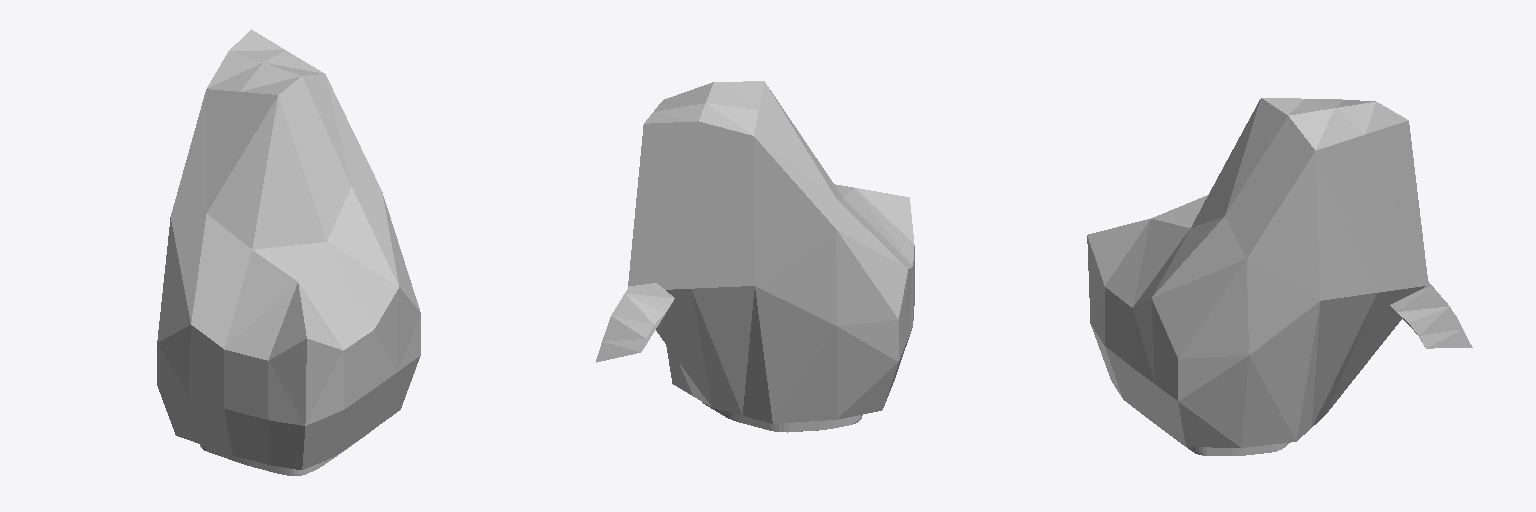
Rendered from Rte.obj.
The picture shows the model from 3 angles: view 1: azimuth 30°, elevation 25°; view 2: azimuth 150°, elevation 25°; view 3: azimuth 270°, elevation 25°; orthographic projection.
Visible parts, largest first — view 1: 立方体.002; view 2: 立方体.002; view 3: 立方体.002.
Boxes of the visible parts, <box> form: 立方体.002: <box>157,29,420,475</box>; 立方体.002: <box>596,81,914,432</box>; 立方体.002: <box>1087,98,1472,455</box>.
Size of the model in its own units: 0.5965 by 0.8184 by 0.868.